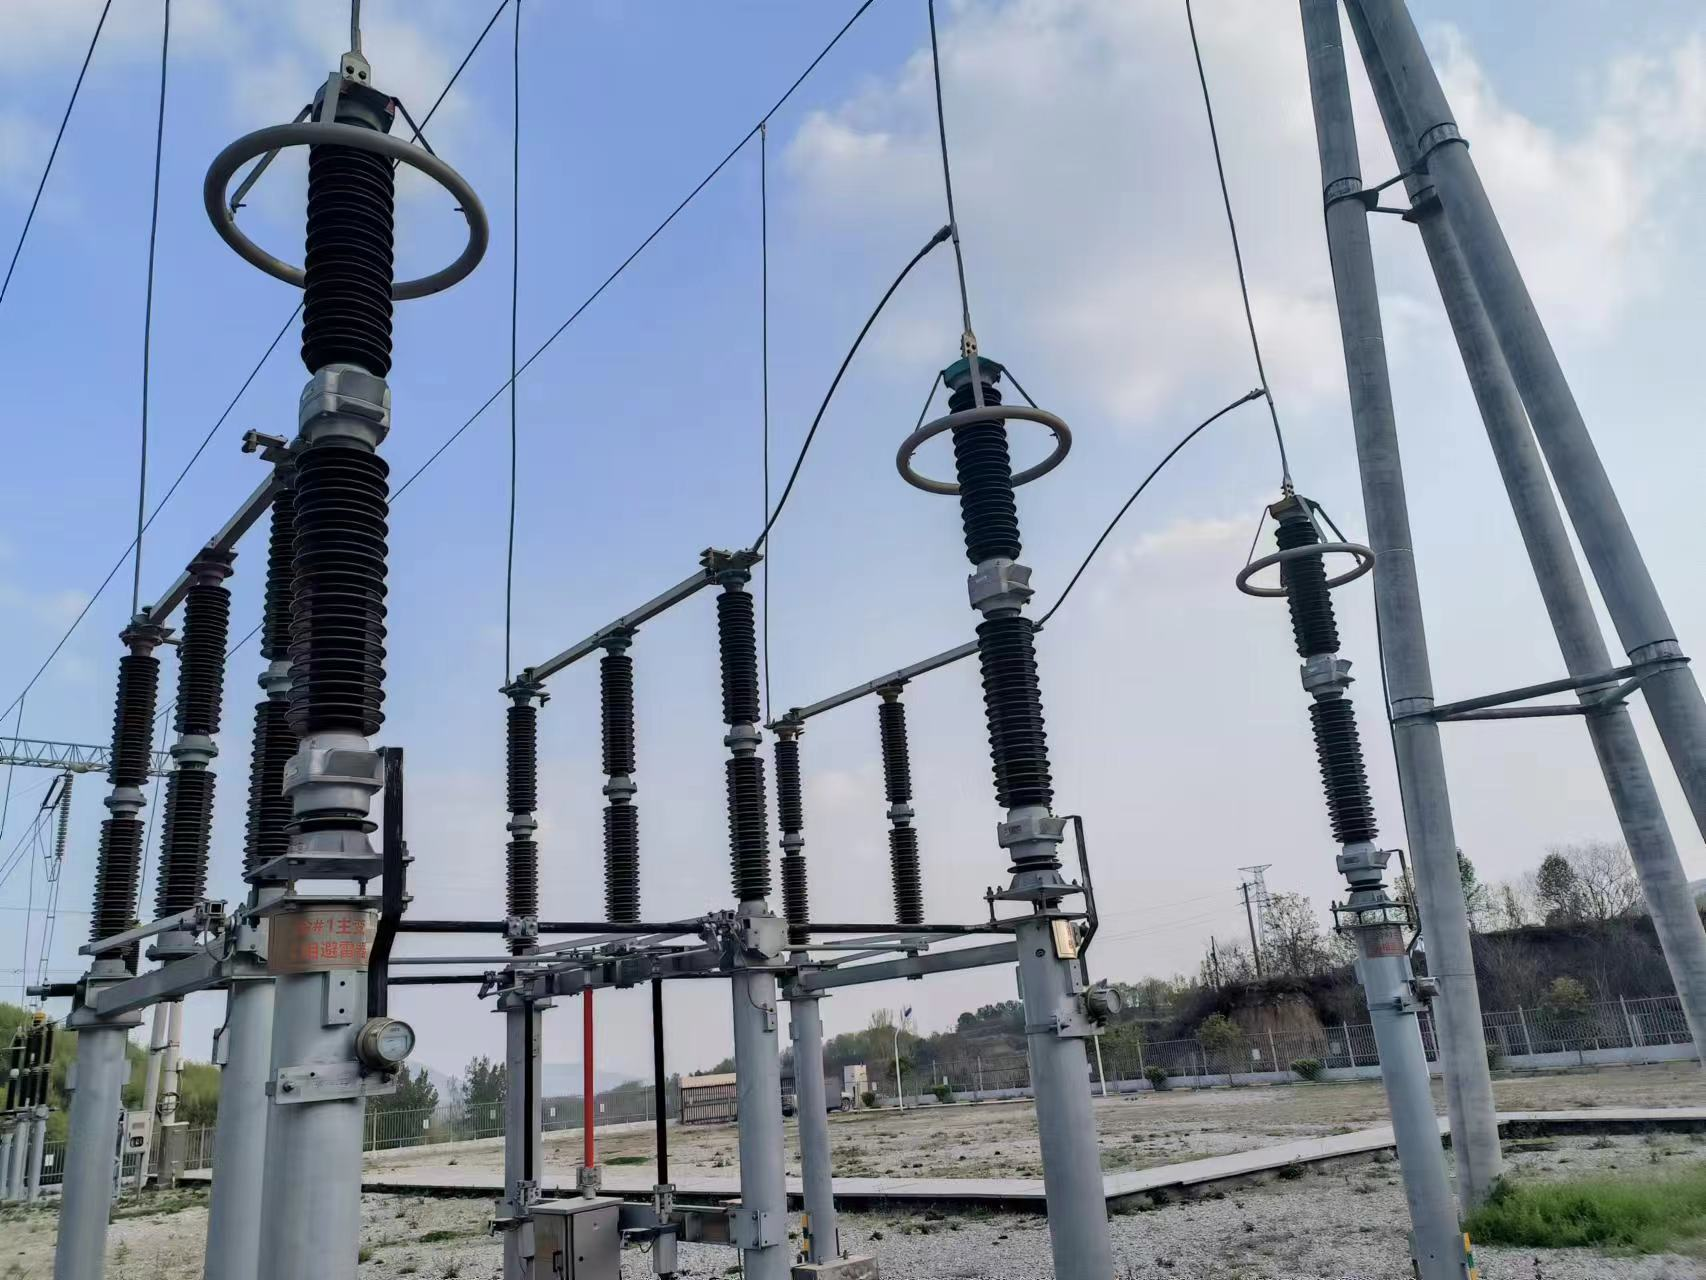Arrester: (202, 81, 496, 854), (897, 362, 1129, 901), (1235, 493, 1405, 912)
